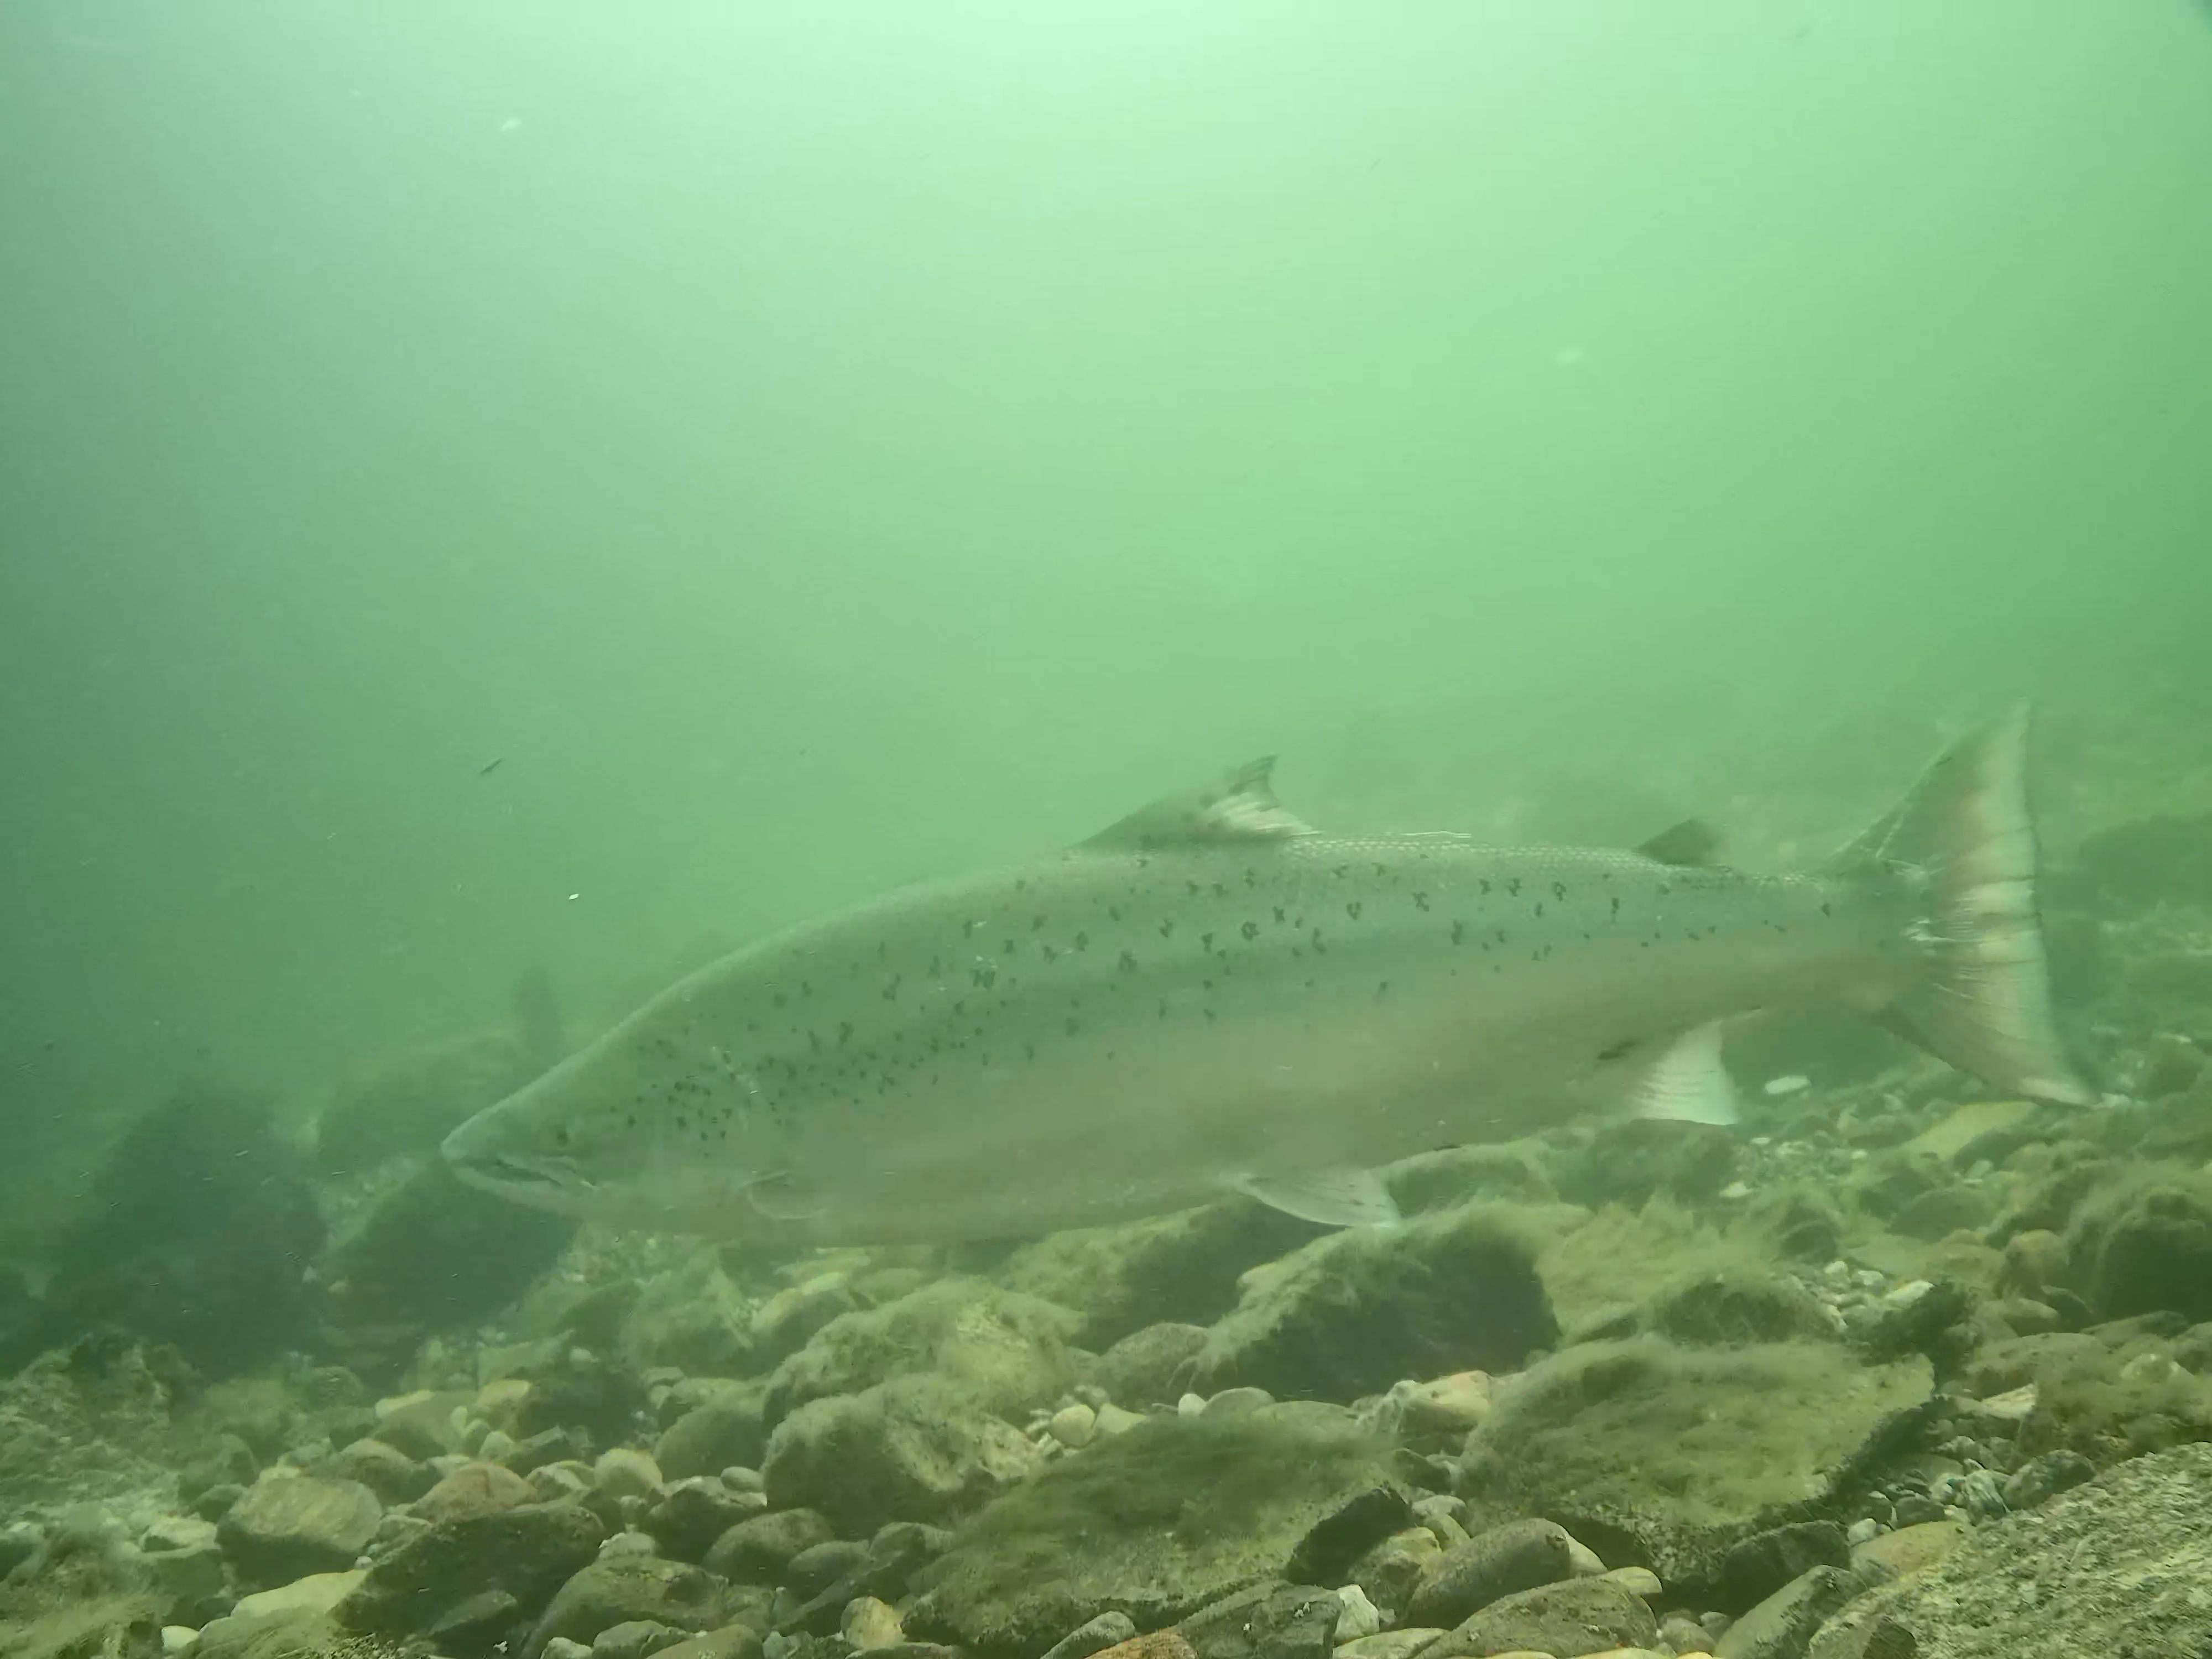salmon: (434, 697, 2099, 1256)
